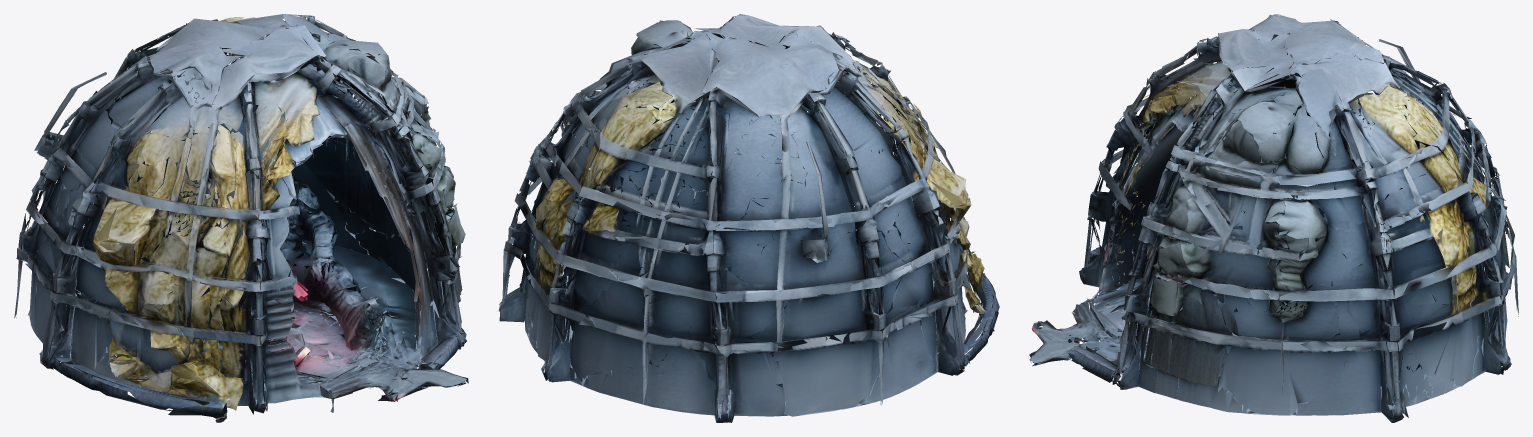
File: cryo_frozen_shelter_pod.glb
3 views of the same model, side by side, from view 1: azimuth 30°, elevation 25°; view 2: azimuth 150°, elevation 25°; view 3: azimuth 270°, elevation 25° (orthographic).
Parts seen in each view (by area): view 1: node_0; view 2: node_0; view 3: node_0.
Boxes of the visible parts, left/top/right/bottom form: node_0: left=14, top=14, right=468, bottom=422; node_0: left=498, top=14, right=999, bottom=422; node_0: left=1029, top=14, right=1518, bottom=422.
Bounding box in the file's own units: 0.9361 × 0.6534 × 0.9744.
Materials: 1 (1 with a texture image).
